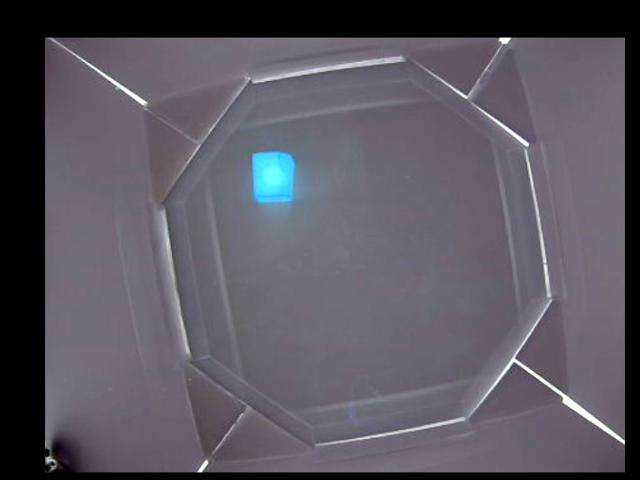Carrot: (251, 150, 296, 203)
